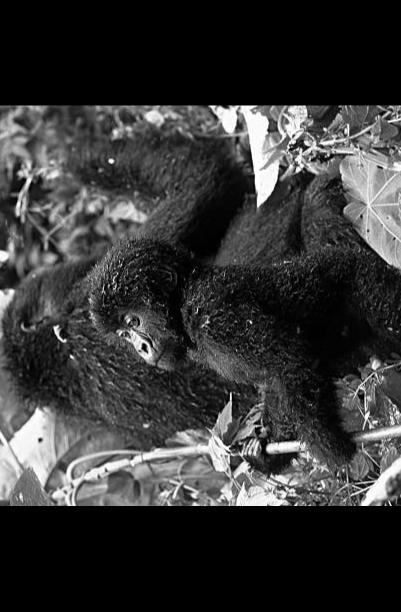goriile_montagne: (96, 221, 401, 426)
